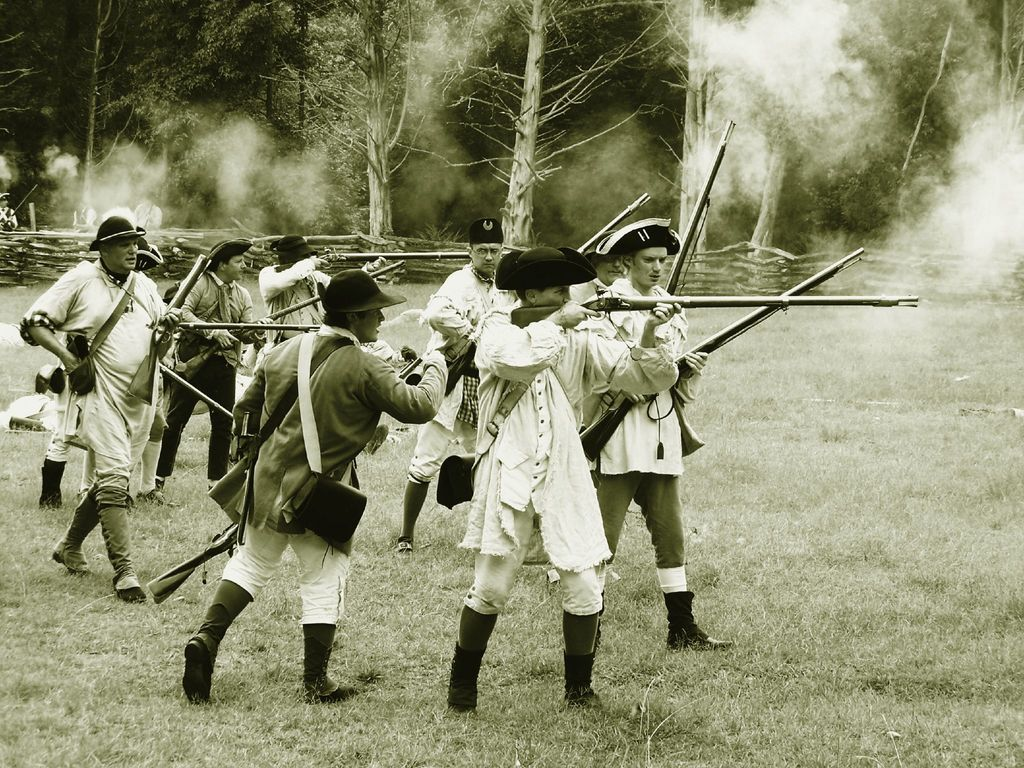Person: (0, 191, 733, 719)
